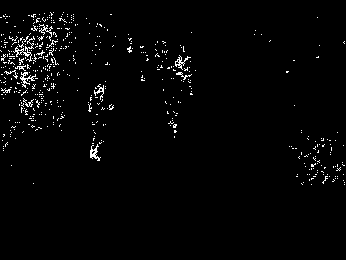person: (86, 84, 114, 167)
